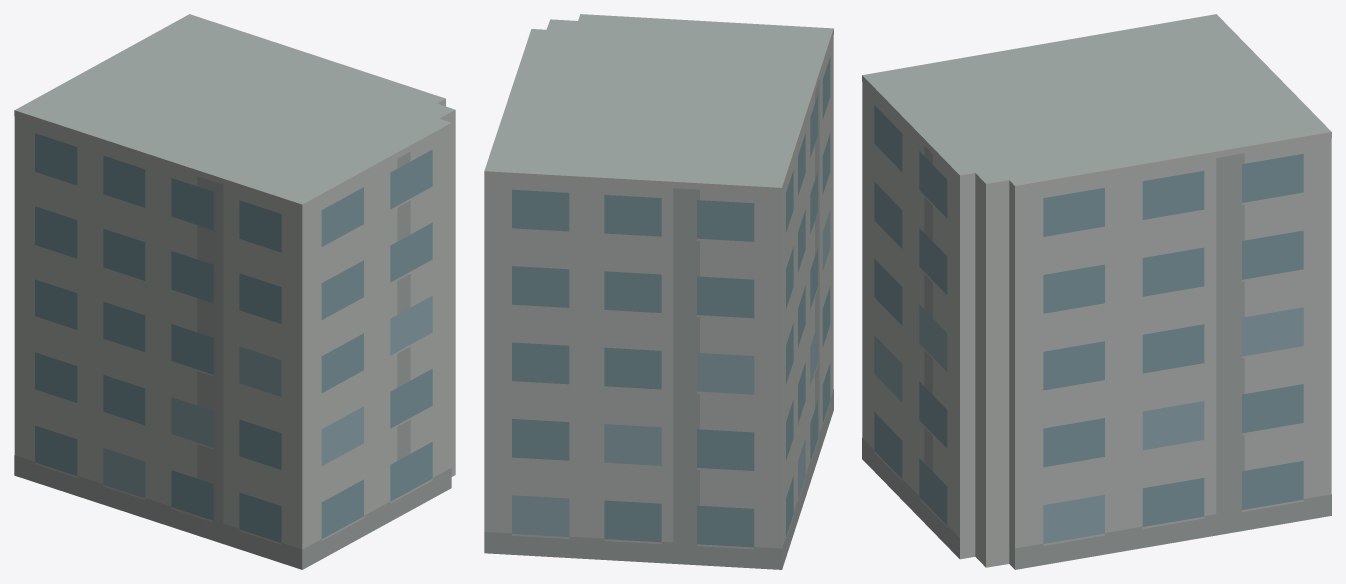
The model's file is survey-upis-32725074.glb.
3 renders of one model, left to right at view 1: azimuth 30°, elevation 25°; view 2: azimuth 150°, elevation 25°; view 3: azimuth 270°, elevation 25°, orthographic. The views are drawn at different scales.
Parts seen in each view (by area): view 1: survey-upis-32725074.tmp; view 2: survey-upis-32725074.tmp; view 3: survey-upis-32725074.tmp.
Part boxes in pixels (x1,y1,x2,y2): survey-upis-32725074.tmp: (14, 14, 455, 569); survey-upis-32725074.tmp: (484, 14, 833, 569); survey-upis-32725074.tmp: (862, 14, 1331, 569).
Bounding box in the file's own units: 13.95 × 14.5 × 16.09.
